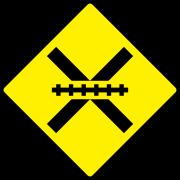Barrier Ahead: (19, 22, 162, 156)
